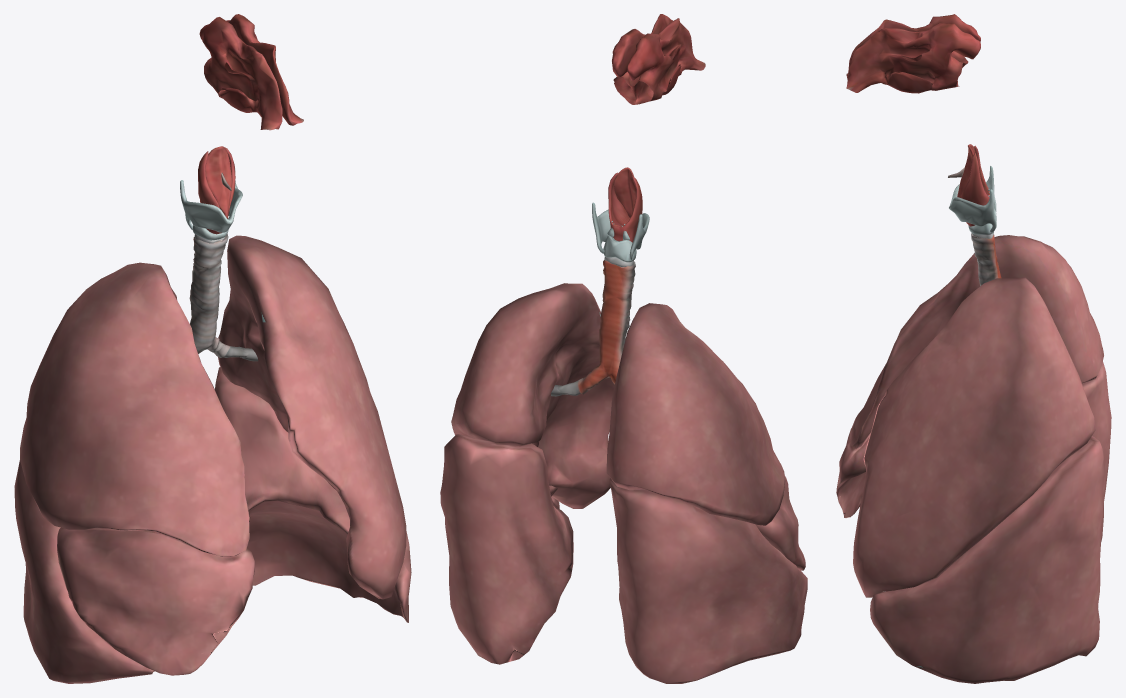
The model's file is sys-respiratory.glb.
3 views of the same model, side by side, from view 1: azimuth 30°, elevation 25°; view 2: azimuth 150°, elevation 25°; view 3: azimuth 270°, elevation 25° (orthographic). The views are drawn at different scales.
Parts seen in each view (by area): view 1: Right_lung_superior_lobe, Left_lung_superior_lobe, Right_lung_middle_lobe, Left_lung_inferior_lobe, Right_lung_inferior_lobe, Nasal_mucosa, Trachea, Thyroid_cartilage, Epiglottis, Mucosa_of_larynx_aryepiglottic_vocal_and_vestibular_folds; view 2: Right_lung_inferior_lobe, Right_lung_superior_lobe, Left_lung_inferior_lobe, Left_lung_superior_lobe, Nasal_mucosa, Trachea, Right_lung_middle_lobe, Mucosa_of_larynx_aryepiglottic_vocal_and_vestibular_folds, Thyroid_cartilage, Epiglottis, Cricoid_cartilage; view 3: Left_lung_superior_lobe, Left_lung_inferior_lobe, Right_lung_superior_lobe, Nasal_mucosa, Right_lung_middle_lobe, Right_lung_inferior_lobe, Thyroid_cartilage, Trachea, Mucosa_of_larynx_aryepiglottic_vocal_and_vestibular_folds.
Boxes of the visible parts, box(x1,y1,x2,y2) form: Right_lung_superior_lobe: box(20, 262, 250, 556); Left_lung_superior_lobe: box(218, 235, 406, 599); Right_lung_middle_lobe: box(57, 527, 254, 675); Left_lung_inferior_lobe: box(215, 367, 411, 622); Right_lung_inferior_lobe: box(14, 460, 154, 683); Nasal_mucosa: box(199, 14, 303, 130); Trachea: box(189, 233, 229, 357); Thyroid_cartilage: box(180, 168, 242, 232); Epiglottis: box(205, 146, 231, 218); Mucosa_of_larynx_aryepiglottic_vocal_and_vestibular_folds: box(198, 147, 235, 234); Right_lung_inferior_lobe: box(609, 478, 807, 683); Right_lung_superior_lobe: box(606, 303, 785, 525); Left_lung_inferior_lobe: box(440, 434, 573, 664); Left_lung_superior_lobe: box(451, 283, 614, 508); Nasal_mucosa: box(612, 14, 705, 104); Trachea: box(577, 260, 635, 394); Right_lung_middle_lobe: box(755, 475, 805, 570); Mucosa_of_larynx_aryepiglottic_vocal_and_vestibular_folds: box(608, 172, 642, 242); Thyroid_cartilage: box(592, 202, 649, 260); Epiglottis: box(613, 167, 636, 217); Cricoid_cartilage: box(603, 236, 636, 262); Left_lung_superior_lobe: box(853, 277, 1095, 597); Left_lung_inferior_lobe: box(870, 436, 1104, 683); Right_lung_superior_lobe: box(850, 235, 1103, 448); Nasal_mucosa: box(846, 14, 980, 93); Right_lung_middle_lobe: box(836, 428, 870, 517); Right_lung_inferior_lobe: box(1082, 361, 1111, 541); Thyroid_cartilage: box(949, 166, 996, 232); Trachea: box(971, 233, 1001, 285); Mucosa_of_larynx_aryepiglottic_vocal_and_vestibular_folds: box(960, 145, 989, 226).
Size of the model in its own units: 0.25 by 0.4388 by 0.1844.
35 materials, 35 textured.
